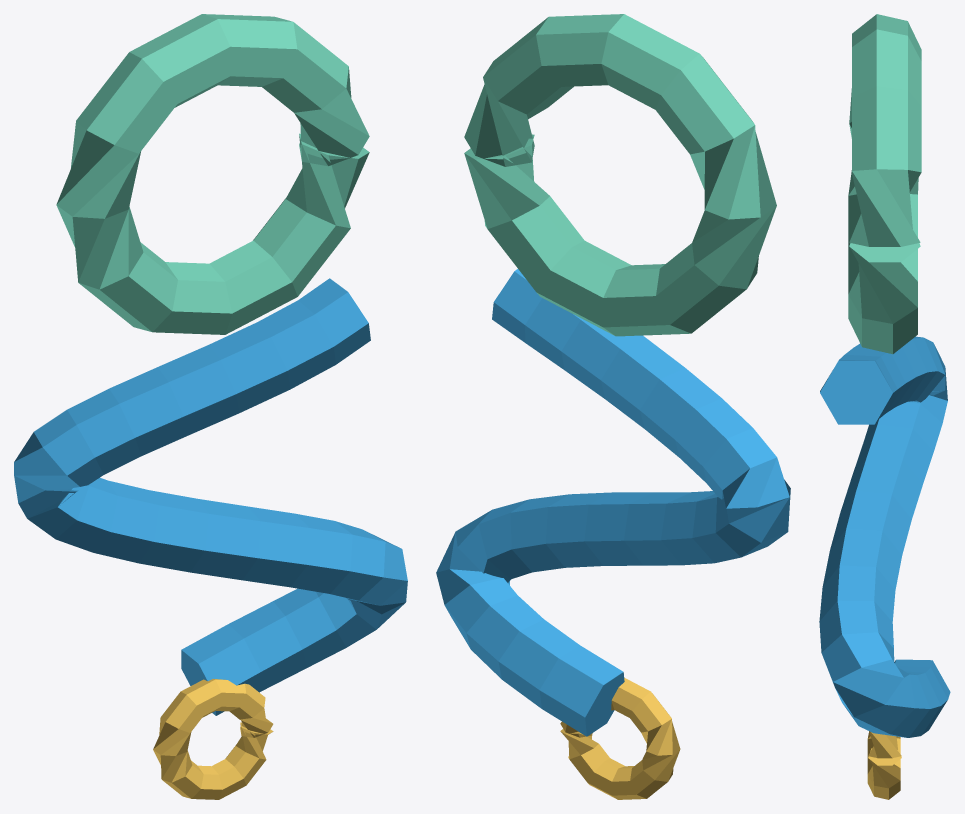
Rendered from leash.glb.
3 renders of one model, left to right at view 1: azimuth 30°, elevation 25°; view 2: azimuth 150°, elevation 25°; view 3: azimuth 270°, elevation 25°, orthographic. The views are drawn at different scales.
Visible parts, largest first — view 1: leash; view 2: leash; view 3: leash.
Part boxes in pixels (bbox=[...]): leash: bbox=[14, 14, 407, 799]; leash: bbox=[436, 14, 790, 799]; leash: bbox=[819, 14, 950, 799].
Bounding box in the file's own units: 0.4192 × 0.85 × 0.1321.
